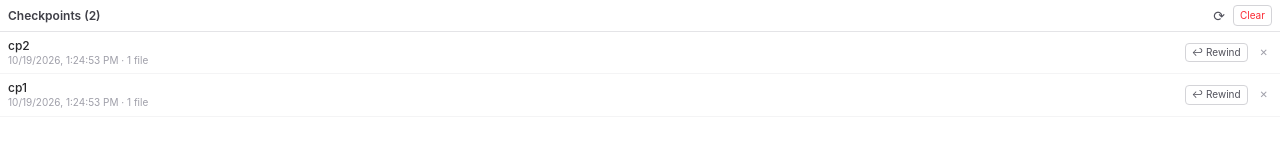
CheckpointPanel (#435) › clears all checkpoints (confirmed)
Click the button with aria-label "Clear all checkpoints" at (1252, 16), box [1233, 5, 1272, 26]
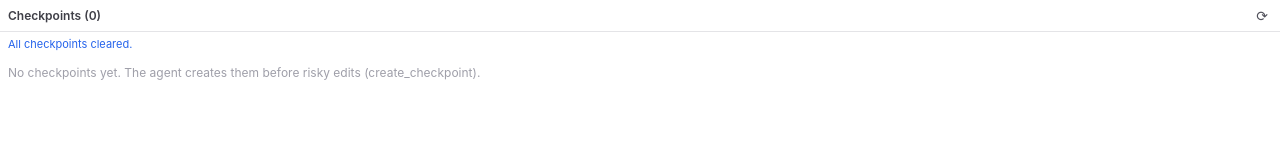
Expected: the text "All checkpoints cleared." is shown, [8, 37, 132, 51]
